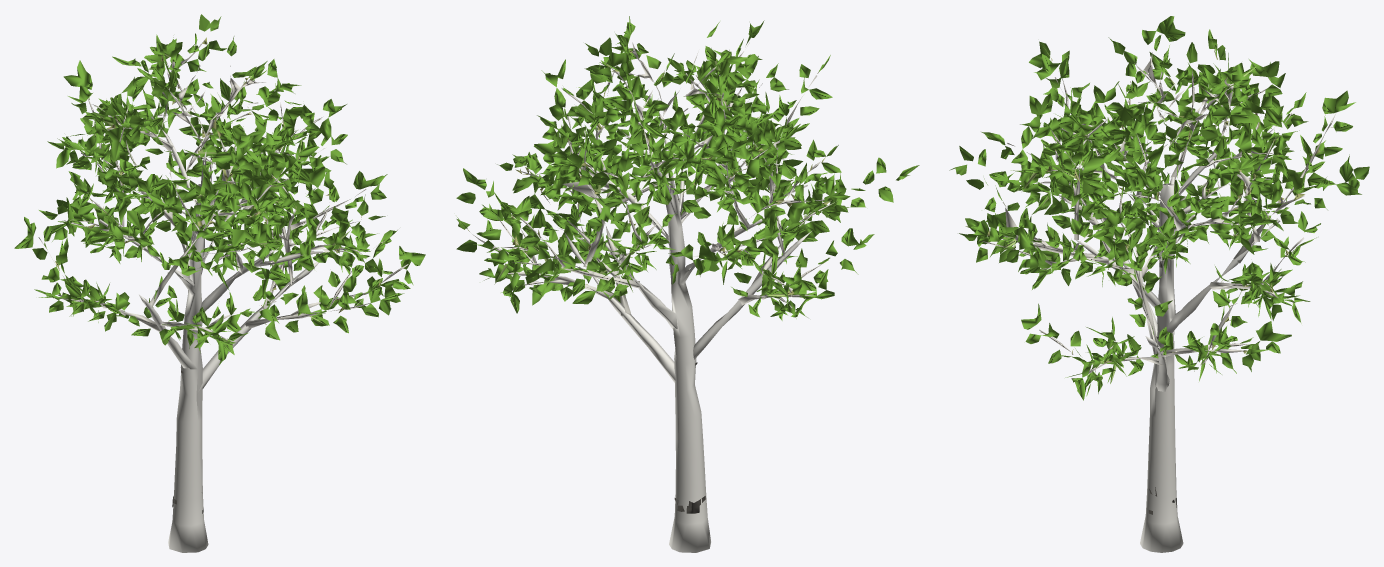
File: 9_3_mid.glb
3 views of the same model, side by side, from view 1: azimuth 30°, elevation 25°; view 2: azimuth 150°, elevation 25°; view 3: azimuth 270°, elevation 25° (orthographic). The views are drawn at different scales.
Visible parts, largest first — view 1: body; view 2: body; view 3: body.
Part boxes in pixels (left/top/right/bottom): body: left=14, top=14, right=425, bottom=552; body: left=456, top=16, right=919, bottom=552; body: left=949, top=16, right=1369, bottom=552.
Size of the model in its own units: 5.3 by 7.05 by 5.19.
Materials: 1 (1 with a texture image).
